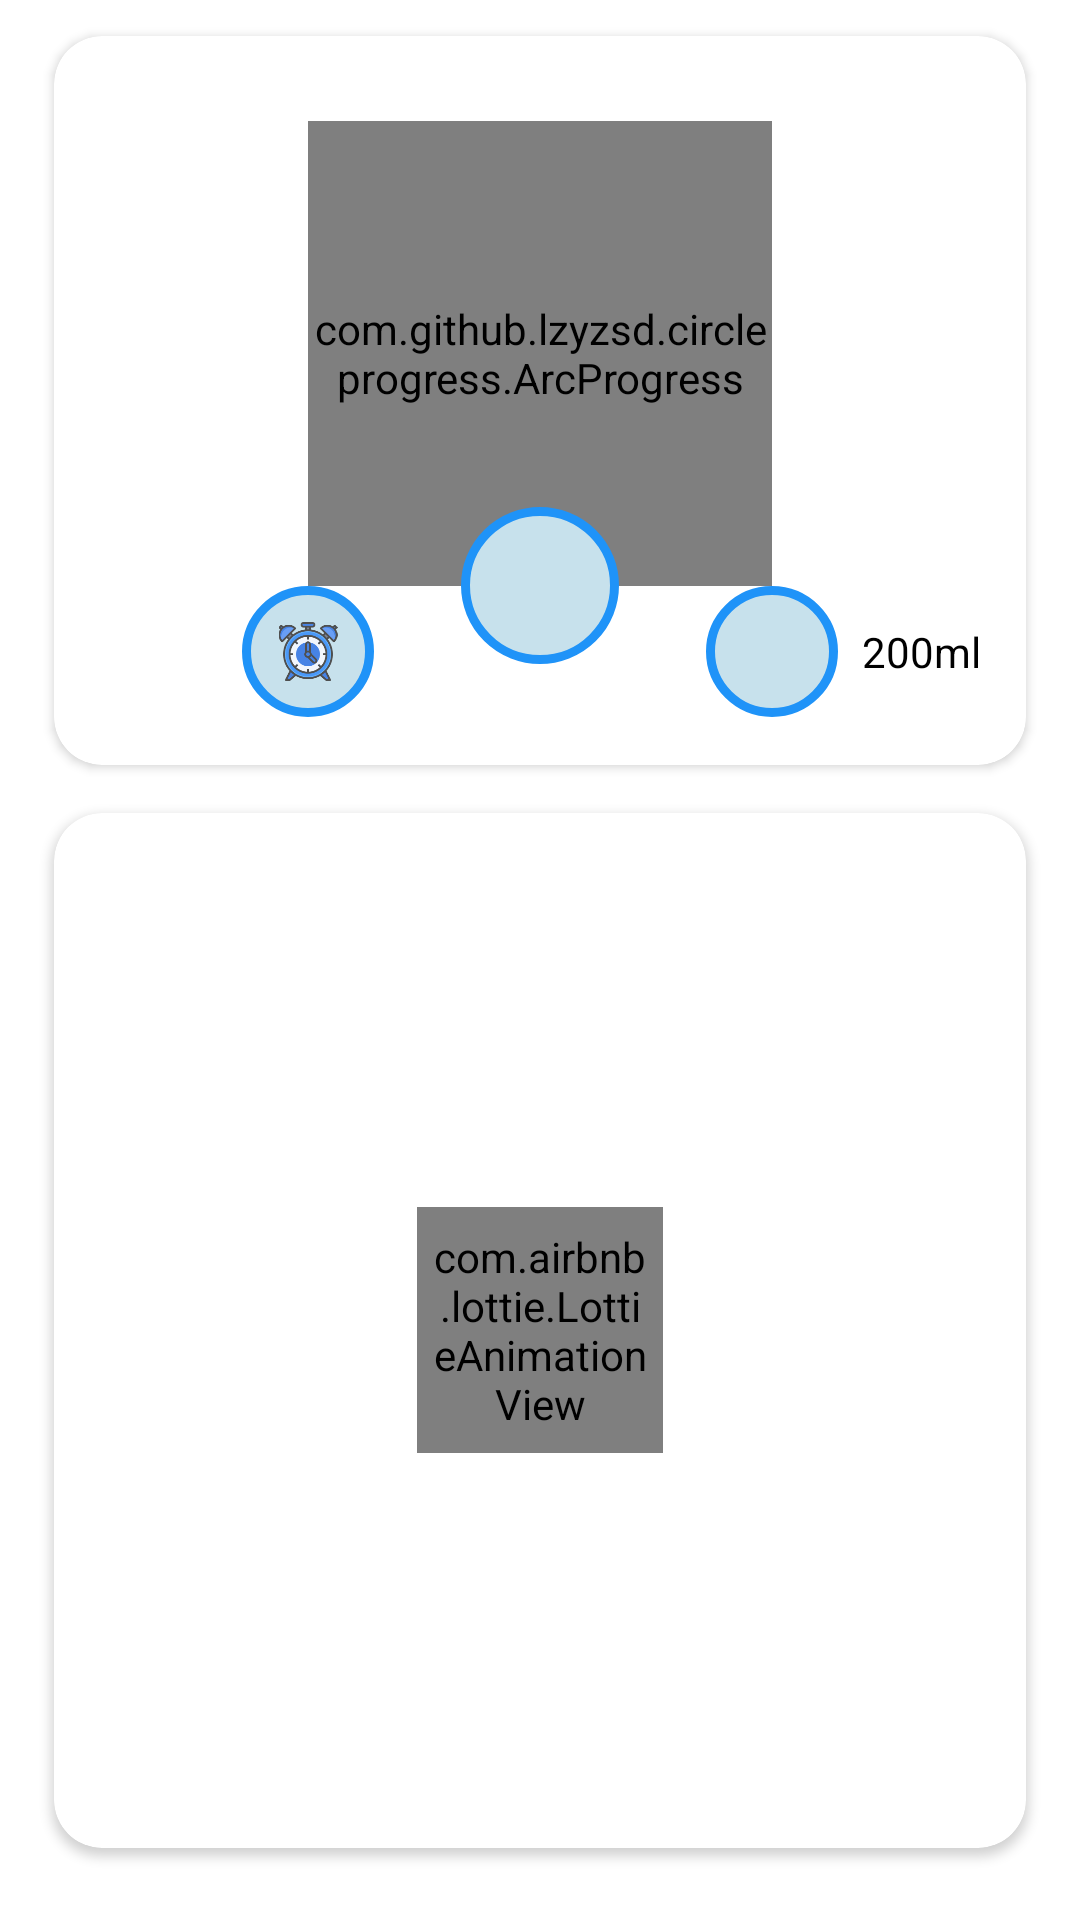

Icons on this 1080x1920 Android screen, each with the point to tap as [x,y]:
clock: [308,651]
